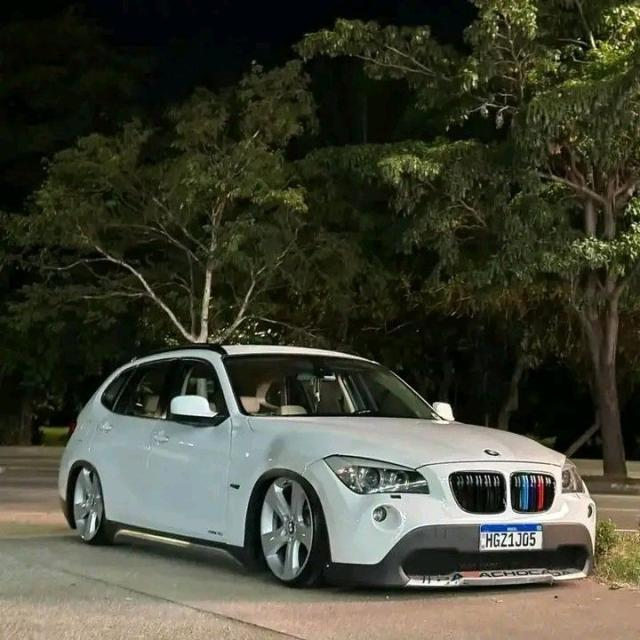Placas: (478, 522, 544, 550)
